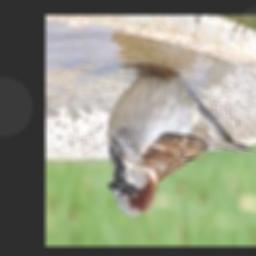Sparrow: (107, 71, 253, 217)
